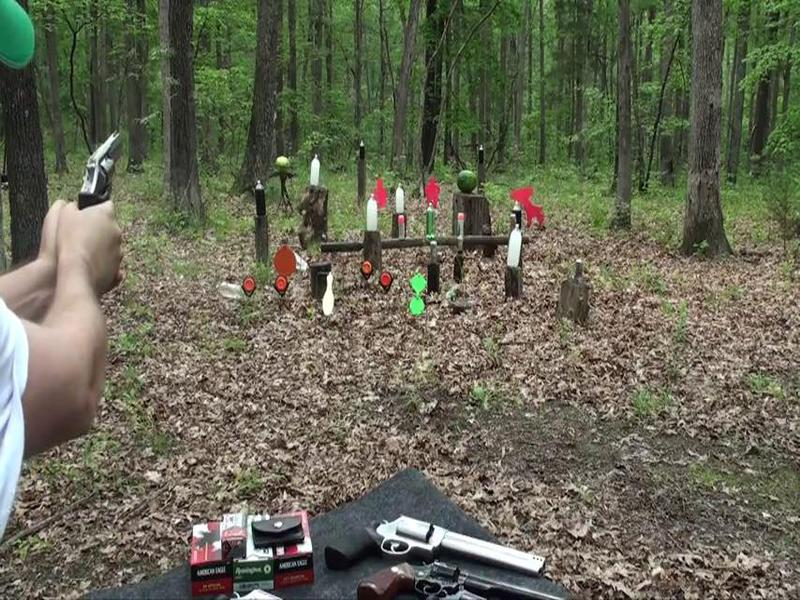Revolver: (64, 120, 147, 231)
